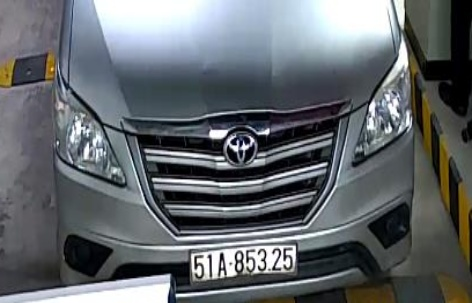plate: (187, 239, 296, 280)
